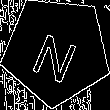N_NE: (29, 20, 84, 82)
